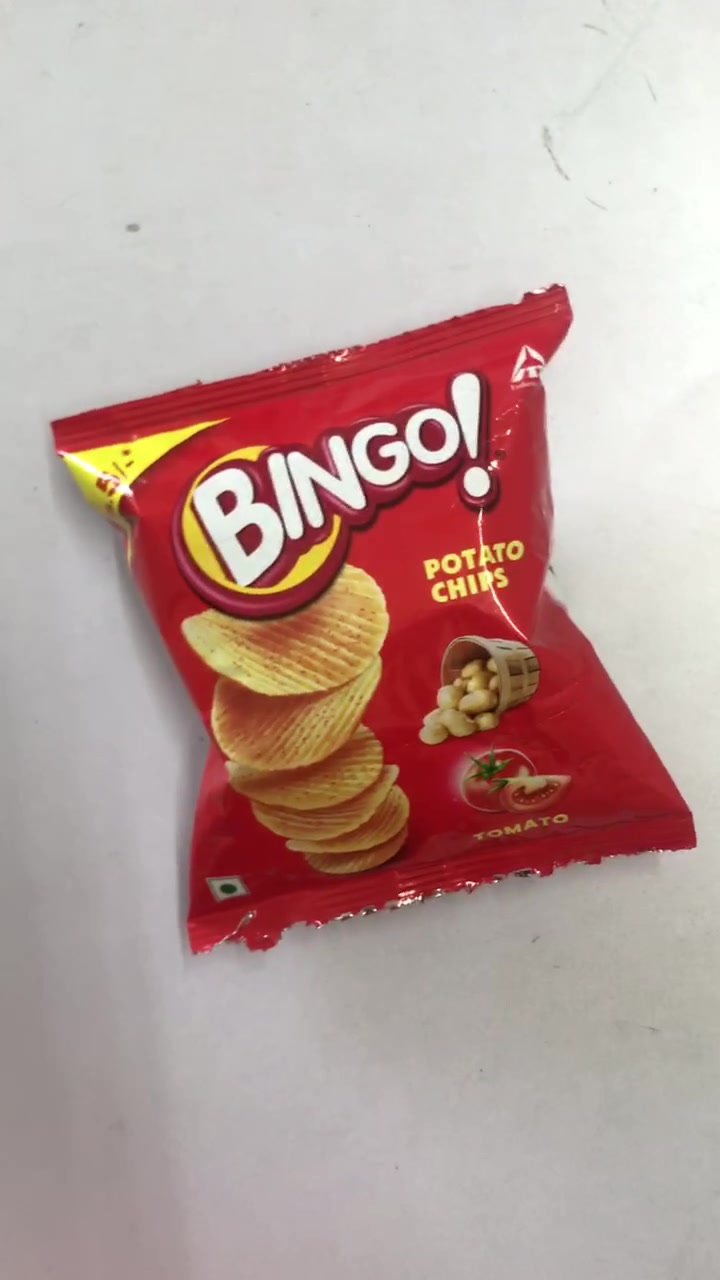Bingo: (62, 374, 687, 892)
